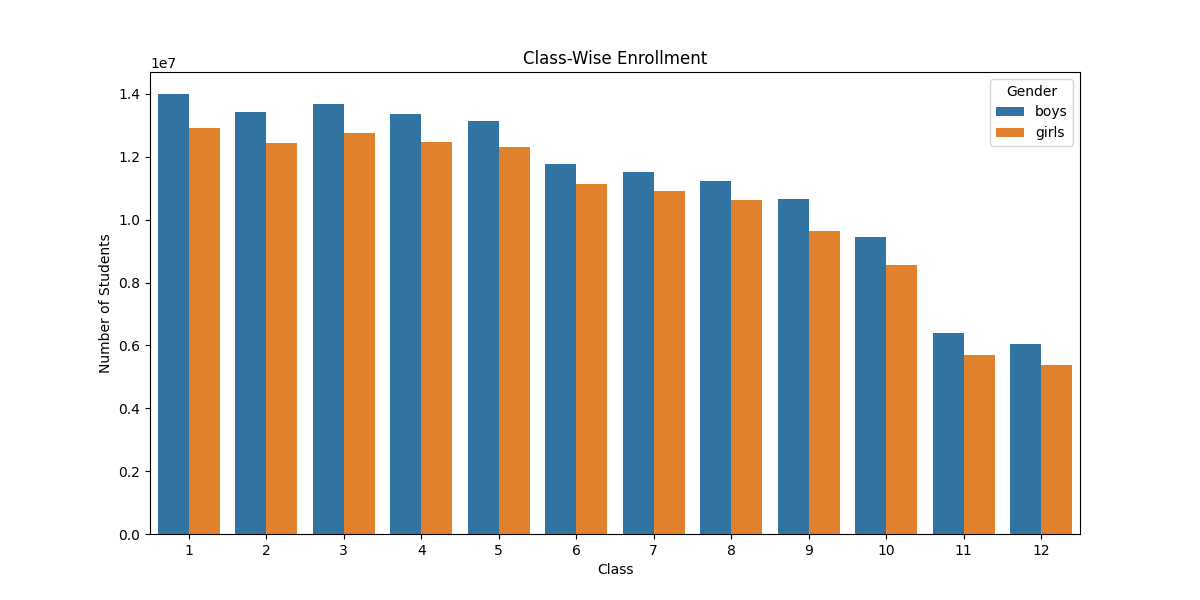

Layout of this report page (visuals, bound fields, positions):
{"tool":"tableau","page":{"name":"Dashboard 1","canvas":[1000,1000],"units":"permille","ordinal":0},"visuals":[{"type":"worksheet","title":"Sheet 2","mark":"Bar","rows":["count"],"cols":["date","date"],"box":[1.8,480.7,991,499.4]}]}

Visuals, with their boxes on the dashboard's canvas, which has no fixed pixel size, in thousandths of its width and height (x1, y1, x2, y2). These are canvas units, not pixel positions in the 1200x600 screenshot, which may show the page scaled, cropped or inside an application window:
"Sheet 2" worksheet (Bar marks): BBox(2, 481, 993, 980)
